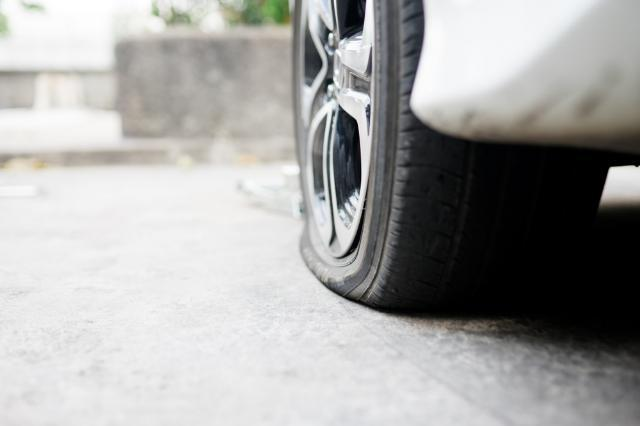tire flat: (289, 0, 508, 312)
